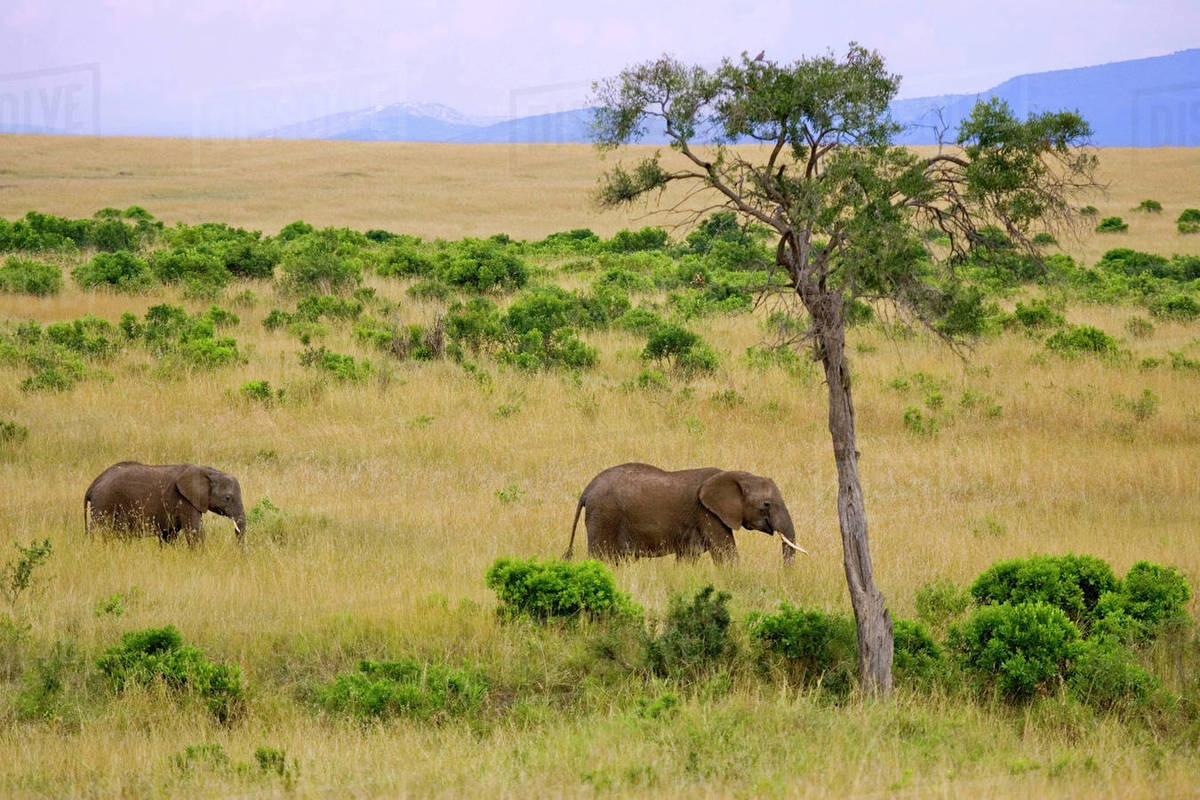elephant: (682, 521, 917, 641), (164, 511, 328, 619)
